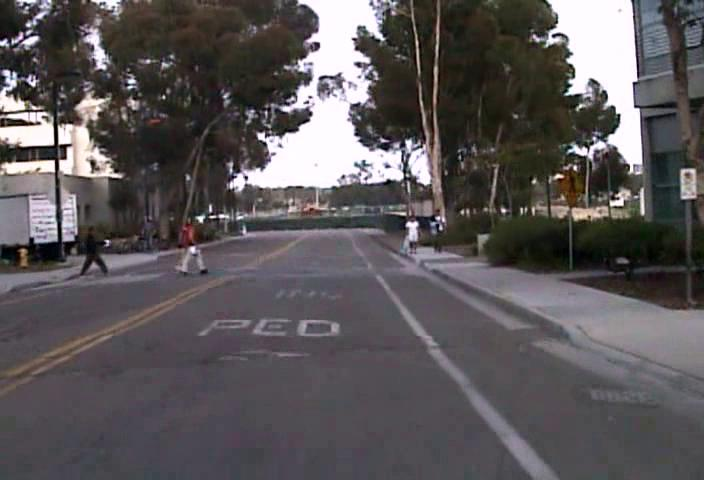pedestrianCrossing: (557, 167, 586, 203)
